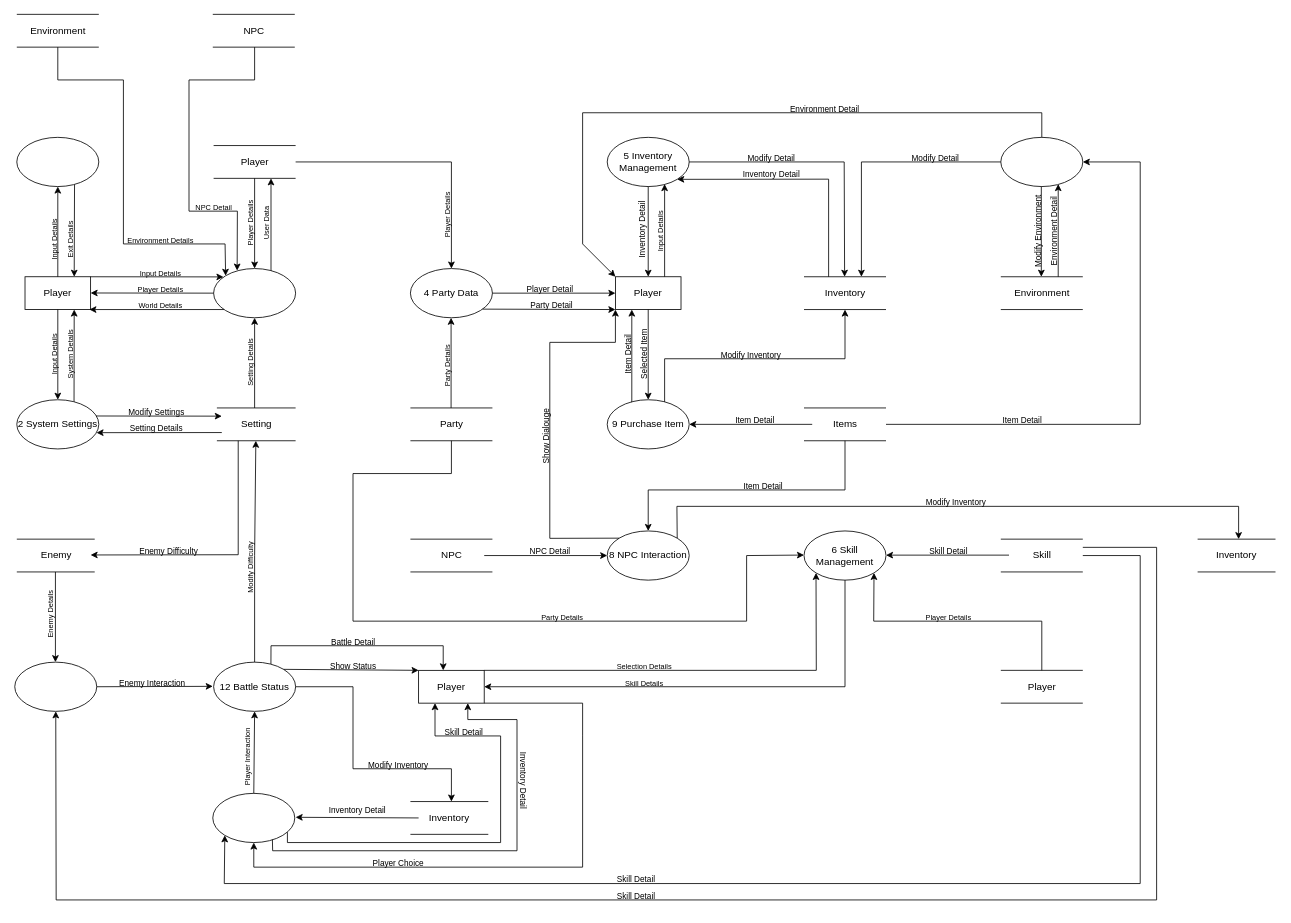
Image size: 1291x923. Some labels were removed from this diagram. The shapes that lost their labels are listed below. From the top down, each one's centre as x and y in pixels, then its label:
(57,162): 3 Exit Game
(1041,162): 7 Environment Interaction
(254,293): 1 Start Game
(55,686): 11 Enemy Move
(253,818): 10 Player Move
